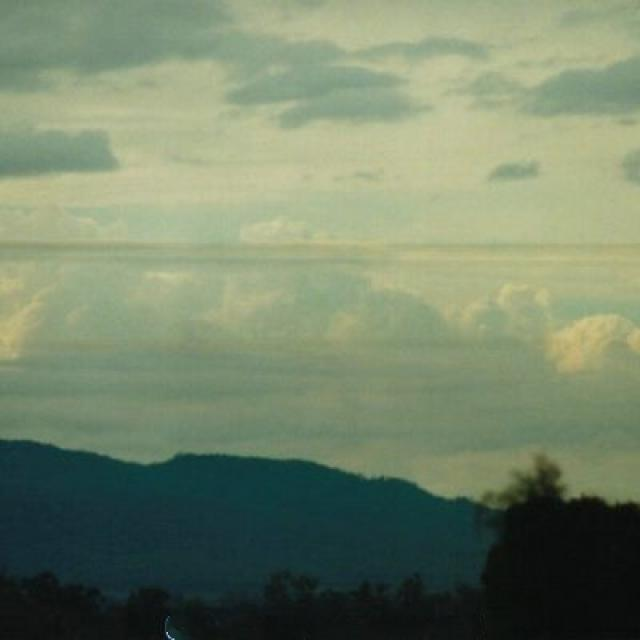Cs: (1, 7, 640, 408)
